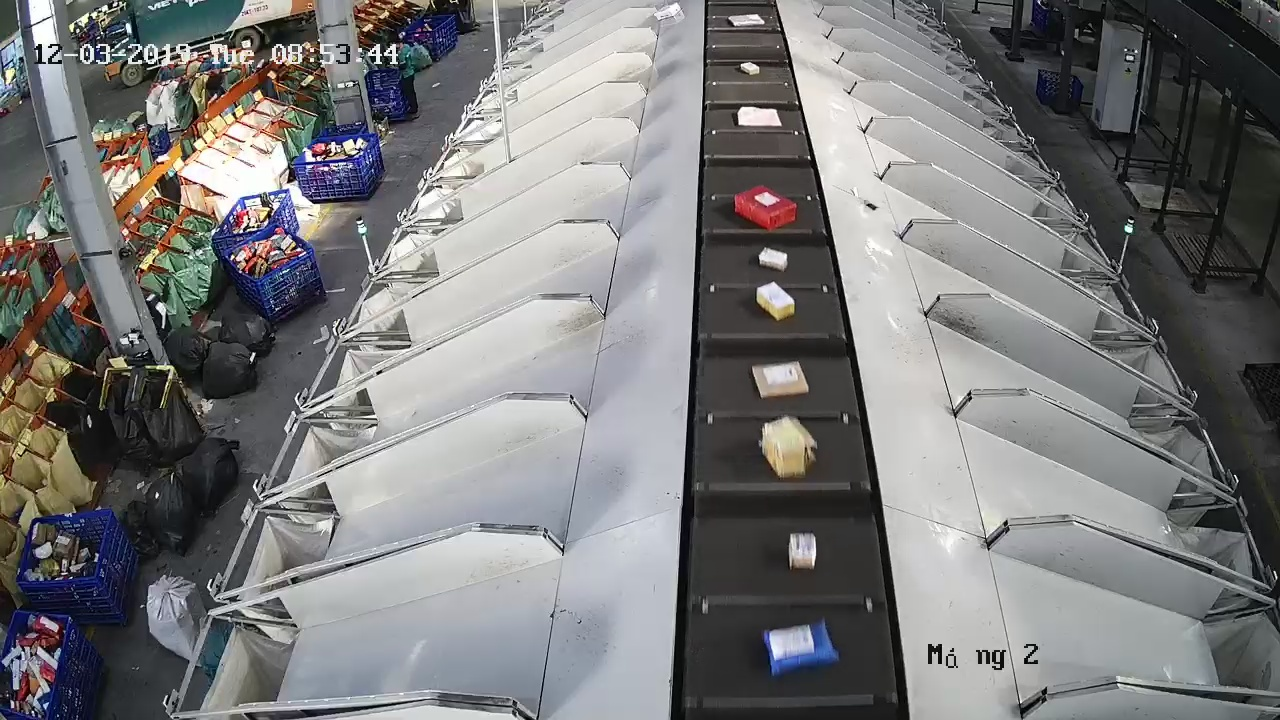parcel: (761, 616, 841, 679), (759, 413, 820, 482), (732, 184, 799, 232), (749, 358, 811, 400), (755, 280, 797, 323), (786, 530, 819, 572), (756, 245, 791, 274), (861, 196, 879, 213)
